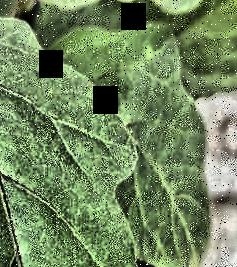HEALTHY: (0, 1, 237, 267)
